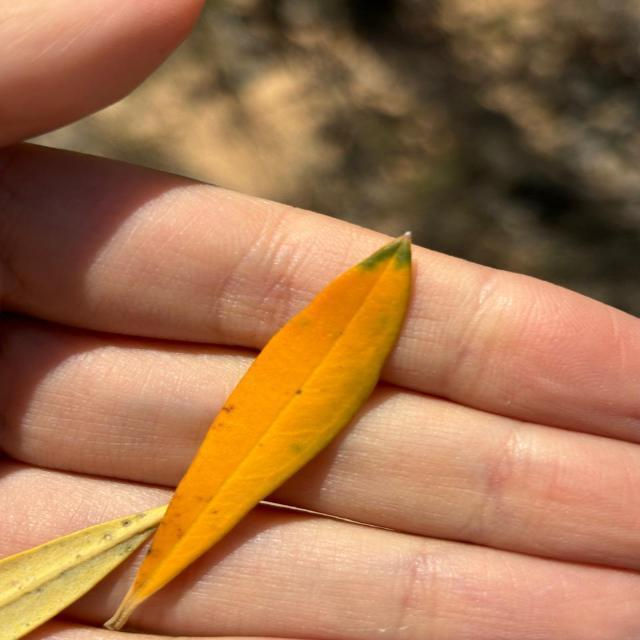OlivePeacockSpot: (105, 234, 412, 628)
